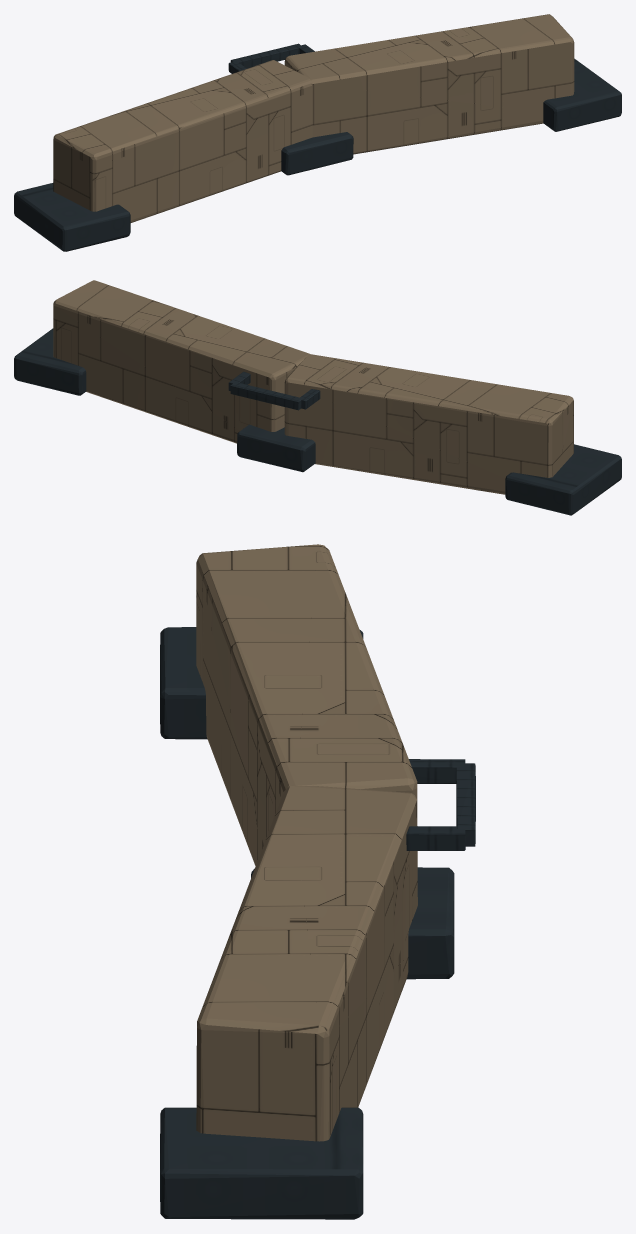
The model's file is hundred_hand_guide_lod1.glb.
The picture shows the model from 3 angles, top to bottom: view 1: azimuth 30°, elevation 25°; view 2: azimuth 150°, elevation 25°; view 3: azimuth 270°, elevation 25°; orthographic projection. The views are drawn at different scales.
Parts seen in each view (by area): view 1: LOD1_Armor, LOD1_Mechanical; view 2: LOD1_Armor, LOD1_Mechanical; view 3: LOD1_Armor, LOD1_Mechanical.
Boxes of the visible parts, x1,y1,x2,y2 form: LOD1_Armor: (53,14,574,222); LOD1_Mechanical: (14,43,621,251); LOD1_Armor: (53,280,573,494); LOD1_Mechanical: (14,328,621,515); LOD1_Armor: (196,544,417,1141); LOD1_Mechanical: (160,627,475,1219).
Size of what is drawn, in the model's own units: 11.39 by 1.59 by 2.78.
2 materials, 2 textured.
